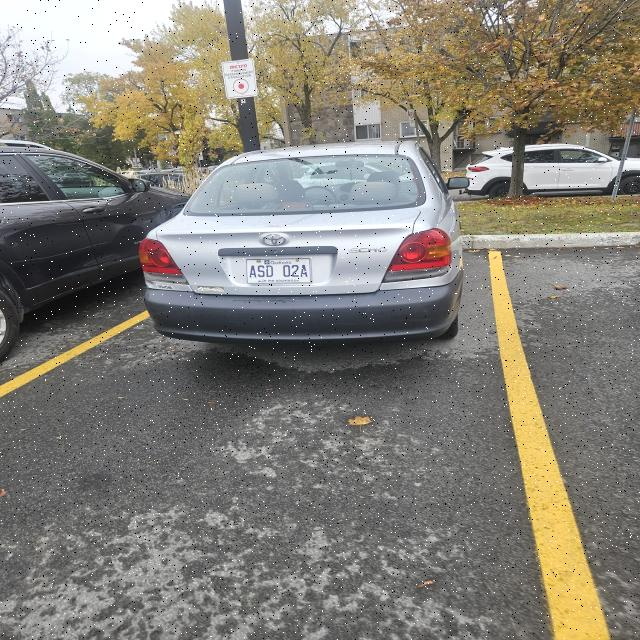plaque: (247, 258, 311, 283)
